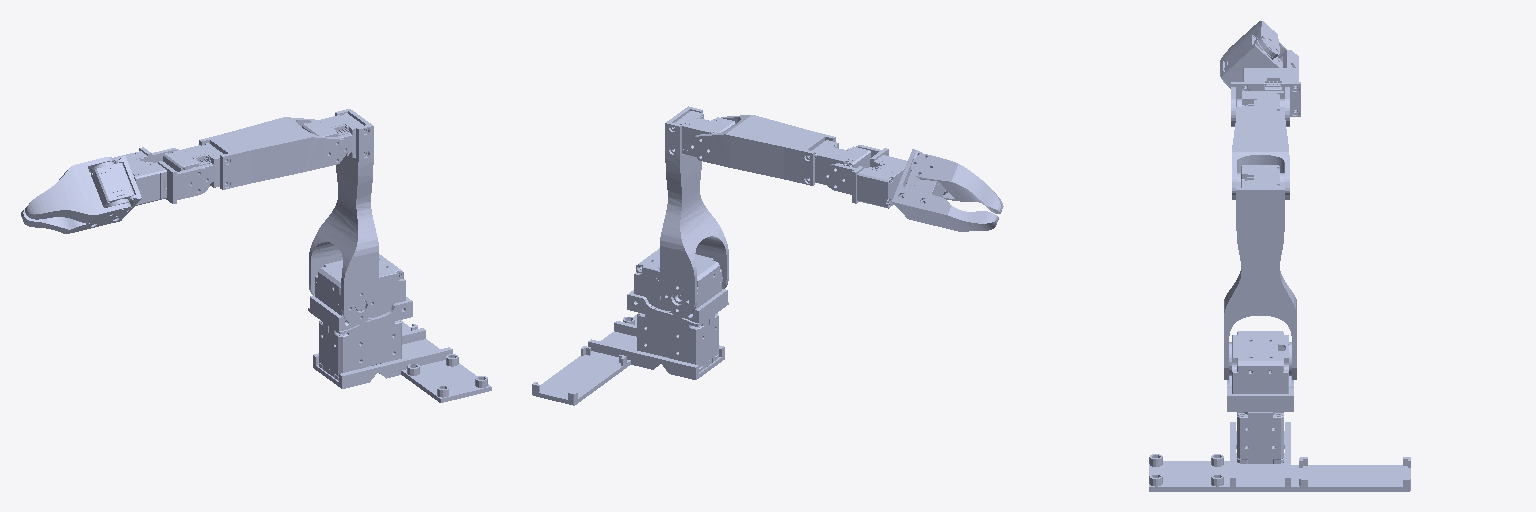
The robot description file, URDF, robot "robot":
<?xml version="1.0" encoding="utf-8"?>
<!-- Combined URDF file with motor links as children of original links -->
<robot
  name="robot">
    <mujoco>
    <compiler meshdir="./meshes"/>
  </mujoco>
  <!-- Original base_link -->
  <link name="base_link">
    <inertial>
      <origin
        xyz="0.034538 0.0021165 0.013963"
        rpy="0 0 0" />
      <mass
        value="0.067266" />
      <inertia
        ixx="4.4766E-05"
        ixy="-2.3205E-06"
        ixz="4.3559E-07"
        iyy="2.1965E-05"
        iyz="1.479E-07"
        izz="5.9106E-05" />
    </inertial>
    <visual>
      <origin xyz="0 0 0" rpy="0 0 0" />
      <geometry>
        <mesh filename="meshes/base_link.STL" />
      </geometry>
      <material name="">
        <color rgba="0.79216 0.81961 0.93333 1" />
      </material>
    </visual>
    <visual>
      <origin xyz="0 0 0" rpy="0 0 0" />
      <geometry>
        <mesh filename="meshes/base_link_motor.STL" />
      </geometry>
      <material name="">
        <color rgba="0.79216 0.81961 0.93333 1" />
      </material>
    </visual>
    <collision>
      <origin xyz="0 0 0" rpy="0 0 0" />
      <geometry>
        <mesh filename="meshes/base_link.STL" />
      </geometry>
    </collision>
    <collision>
      <origin xyz="0 0 0" rpy="0 0 0" />
      <geometry>
        <mesh filename="meshes/base_link_motor.STL" />
      </geometry>
    </collision>
  </link>

  <!-- Original link_1 -->
  <link name="link_1">
    <inertial>
      <origin
        xyz="0.011924 -0.00048792 0.013381"
        rpy="0 0 0" />
      <mass
        value="0.05014" />
      <inertia
        ixx="7.6045E-06"
        ixy="-2.4893E-07"
        ixz="-2.8338E-08"
        iyy="1.2358E-05"
        iyz="-5.112E-09"
        izz="1.4492E-05" />
    </inertial>
    <visual>
      <origin xyz="0 0 0" rpy="0 0 0" />
      <geometry>
        <mesh filename="meshes/link_1.STL" />
      </geometry>
      <material name="">
        <color rgba="0.79216 0.81961 0.93333 1" />
      </material>
    </visual>
    <visual>
      <origin xyz="0 0 0" rpy="0 0 0" />
      <geometry>
        <mesh filename="meshes/link_1_motor.STL" />
      </geometry>
      <material name="">
        <color rgba="0.79216 0.81961 0.93333 1" />
      </material>
    </visual>
    <collision>
      <origin xyz="0 0 0" rpy="0 0 0" />
      <geometry>
        <mesh filename="meshes/link_1.STL" />
      </geometry>
    </collision>
    <collision>
      <origin xyz="0 0 0" rpy="0 0 0" />
      <geometry>
        <mesh filename="meshes/link_1_motor.STL" />
      </geometry>
    </collision>
  </link>

  <joint name="joint_1" type="revolute">
    <origin xyz="0.012 0 0.0409" rpy="0 0 0" />
    <parent link="base_link" />
    <child link="link_1" />
    <axis xyz="0 0 1" />
    <limit lower="-3.14" upper="3.14" effort="0.5" velocity="100" />
  </joint>

  <!-- Original link_2 -->
  <link name="link_2">
    <inertial>
      <origin
        xyz="0.0011747 0.02097 0.071547"
        rpy="0 0 0" />
      <mass
        value="0.050177" />
      <inertia
        ixx="3.7018E-05"
        ixy="2.5963E-09"
        ixz="-2.8959E-06"
        iyy="3.3772E-05"
        iyz="-1.6011E-10"
        izz="8.2375E-06" />
    </inertial>
    <visual>
      <origin xyz="0 0 0" rpy="0 0 0" />
      <geometry>
        <mesh filename="meshes/link_2.STL" />
      </geometry>
      <material name="">
        <color rgba="0.79216 0.81961 0.93333 1" />
      </material>
    </visual>
    <visual>
      <origin xyz="0 0 0" rpy="0 0 0" />
      <geometry>
        <mesh filename="meshes/link_2_motor.STL" />
      </geometry>
      <material name="">
        <color rgba="0.79216 0.81961 0.93333 1" />
      </material>
    </visual>
    <collision>
      <origin xyz="0 0 0" rpy="0 0 0" />
      <geometry>
        <mesh filename="meshes/link_2.STL" />
      </geometry>
    </collision>
    <collision>
      <origin xyz="0 0 0" rpy="0 0 0" />
      <geometry>
        <mesh filename="meshes/link_2_motor.STL" />
      </geometry>
    </collision>
  </link>

  <joint name="joint_2" type="revolute">
    <origin xyz="0 -0.0209 0.0154" rpy="0 0 0" />
    <parent link="link_1" />
    <child link="link_2" />
    <axis xyz="0 -1 0" />
    <limit lower="-3.14" upper="3.14" effort="0.5" velocity="100" />
  </joint>

  <!-- Original link_3 -->
  <link name="link_3">
    <inertial>
      <origin
        xyz="-0.05537 0.014505 0.0028659"
        rpy="0 0 0" />
      <mass
        value="0.06379" />
      <inertia
        ixx="7.3427E-06"
        ixy="2.6058E-09"
        ixz="1.895E-07"
        iyy="2.2231E-05"
        iyz="9.8075E-11"
        izz="2.4506E-05" />
    </inertial>
    <visual>
      <origin xyz="0 0 0" rpy="0 0 0" />
      <geometry>
        <mesh filename="meshes/link_3.STL" />
      </geometry>
      <material name="">
        <color rgba="0.79216 0.81961 0.93333 1" />
      </material>
    </visual>
    <visual>
      <origin xyz="0 0 0" rpy="0 0 0" />
      <geometry>
        <mesh filename="meshes/link_3_motor.STL" />
      </geometry>
      <material name="">
        <color rgba="0.79216 0.81961 0.93333 1" />
      </material>
    </visual>
    <collision>
      <origin xyz="0 0 0" rpy="0 0 0" />
      <geometry>
        <mesh filename="meshes/link_3.STL" />
      </geometry>
    </collision>
    <collision>
      <origin xyz="0 0 0" rpy="0 0 0" />
      <geometry>
        <mesh filename="meshes/link_3_motor.STL" />
      </geometry>
    </collision>
  </link>

  <joint name="joint_3" type="revolute">
    <origin xyz="-0.0148 0.0065 0.1083" rpy="0 0 0" />
    <parent link="link_2" />
    <child link="link_3" />
    <axis xyz="0 1 0" />
    <limit lower="-3.14" upper="3.14" effort="0.5" velocity="100" />
  </joint>

  <!-- Original link_4 -->
  <link name="link_4">
    <inertial>
      <origin
        xyz="-0.02652 0.019195 -9.0614E-06"
        rpy="0 0 0" />
      <mass
        value="0.019805" />
      <inertia
        ixx="2.9577E-06"
        ixy="2.8302E-08"
        ixz="-1.331E-10"
        iyy="1.0783E-06"
        iyz="1.3763E-09"
        izz="2.8759E-06" />
    </inertial>
    <visual>
      <origin xyz="0 0 0" rpy="0 0 0" />
      <geometry>
        <mesh filename="meshes/link_4.STL" />
      </geometry>
      <material name="">
        <color rgba="0.79216 0.81961 0.93333 1" />
      </material>
    </visual>
    <visual>
      <origin xyz="0 0 0" rpy="0 0 0" />
      <geometry>
        <mesh filename="meshes/link_4_motor.STL" />
      </geometry>
      <material name="">
        <color rgba="0.79216 0.81961 0.93333 1" />
      </material>
    </visual>
    <collision>
      <origin xyz="0 0 0" rpy="0 0 0" />
      <geometry>
        <mesh filename="meshes/link_4.STL" />
      </geometry>
    </collision>
    <collision>
      <origin xyz="0 0 0" rpy="0 0 0" />
      <geometry>
        <mesh filename="meshes/link_4_motor.STL" />
      </geometry>
    </collision>
  </link>

  <joint name="joint_4" type="revolute">
    <origin xyz="-0.10048 5E-05 0.0026999" rpy="0 0 0" />
    <parent link="link_3" />
    <child link="link_4" />
    <axis xyz="0 1 0" />
    <limit lower="-3.14" upper="3.14" effort="0.5" velocity="100" />
  </joint>

  <!-- Original link_5 -->
  <link name="link_5">
    <inertial>
      <origin
        xyz="-0.019091 0.0053379 0.00018011"
        rpy="0 0 0" />
      <mass
        value="0.029277" />
      <inertia
        ixx="3.5905E-06"
        ixy="1.0601E-06"
        ixz="4.6179E-08"
        iyy="6.8334E-06"
        iyz="-2.8448E-09"
        izz="8.1125E-06" />
    </inertial>
    <visual>
      <origin xyz="0 0 0" rpy="0 0 0"/>
      <geometry>
        <mesh filename="meshes/link_5.STL" />
      </geometry>
      <material name="">
        <color rgba="0.79216 0.81961 0.93333 1" />
      </material>
    </visual>
    <visual>
      <origin xyz="0 0 0" rpy="0 0 0" />
      <geometry>
        <mesh filename="meshes/link_5_motor.STL" />
      </geometry>
      <material name="">
        <color rgba="0.79216 0.81961 0.93333 1" />
      </material>
    </visual>
    <collision>
      <origin xyz="0 0 0" rpy="0 0 0" />
      <geometry>
        <mesh filename="meshes/link_5.STL" />
      </geometry>
    </collision>
    <collision>
      <origin xyz="0 0 0" rpy="0 0 0" />
      <geometry>
        <mesh filename="meshes/link_5_motor.STL" />
      </geometry>
    </collision>
  </link>

  <joint name="joint_5" type="revolute">
    <origin xyz="-0.045 0.013097 0" rpy="-0.785398163397 0 0" />
    <parent link="link_4" />
    <child link="link_5" />
    <axis xyz="-1 0 0" />
    <limit lower="-3.14" upper="3.14" effort="0.5" velocity="100" />
  </joint>

  <!-- Original link_6 -->
  <link name="link_6">
    <inertial>
      <origin
        xyz="-0.02507 0.0010817 -0.01414"
        rpy="0 0 0" />
      <mass
        value="0.012831" />
      <inertia
        ixx="1.5159E-06"
        ixy="3.156E-07"
        ixz="3.409E-08"
        iyy="3.449E-06"
        iyz="-3.8705E-09"
        izz="2.4565E-06" />
    </inertial>
    <visual>
      <origin xyz="0 0 0" rpy="0 0 0" />
      <geometry>
        <mesh filename="meshes/link_6.STL" />
      </geometry>
      <material name="">
        <color rgba="0.79216 0.81961 0.93333 1" />
      </material>
    </visual>
    <collision>
      <origin xyz="0 0 0" rpy="0 0 0" />
      <geometry>
        <mesh filename="meshes/link_6.STL" />
      </geometry>
    </collision>
  </link>

  <joint name="joint_6" type="revolute">
    <origin xyz="-0.01315 -0.0075 0.0145" rpy="0 0 0"/>
    <parent link="link_5" />
    <child link="link_6" />
    <axis xyz="0 0 -1" />
    <limit lower="-2.45" upper="0.032" effort="0.5" velocity="100" />
  </joint>
</robot>

--- What the picture shows (computed from the rendered views, not written in the file) ---
The picture shows the robot from 3 angles, left to right: view 1: azimuth 30°, elevation 25°; view 2: azimuth 150°, elevation 25°; view 3: azimuth 270°, elevation 25°; orthographic projection.
Robot: robot — 7 links, 6 joints (6 revolute); root link base_link; default pose: all joints at 0.
Links seen in each view (by area): view 1: link_2, base_link, link_3, link_1, link_6, link_4, link_5; view 2: link_2, base_link, link_3, link_1, link_5, link_4, link_6; view 3: base_link, link_2, link_1, link_3, link_4, link_5, link_6.
Link boxes in pixels (<box>): link_2: <box>302,109,378,324</box>; base_link: <box>313,320,491,402</box>; link_3: <box>163,117,348,189</box>; link_1: <box>308,254,412,334</box>; link_6: <box>25,157,131,223</box>; link_4: <box>113,147,210,205</box>; link_5: <box>21,156,141,233</box>; link_2: <box>660,106,735,317</box>; base_link: <box>532,313,724,405</box>; link_3: <box>689,115,870,185</box>; link_1: <box>627,248,728,326</box>; link_5: <box>892,149,998,231</box>; link_4: <box>824,145,907,208</box>; link_6: <box>911,154,1003,213</box>; base_link: <box>1149,412,1410,491</box>; link_2: <box>1224,165,1296,379</box>; link_1: <box>1227,331,1293,411</box>; link_3: <box>1232,91,1289,199</box>; link_4: <box>1231,68,1300,126</box>; link_5: <box>1221,35,1298,85</box>; link_6: <box>1220,21,1279,88</box>.
Size in the robot's own frame: 0.2971 by 0.1585 by 0.1908 metres.
13 mesh visuals loaded from 13 distinct referenced files (13 binary STL).
